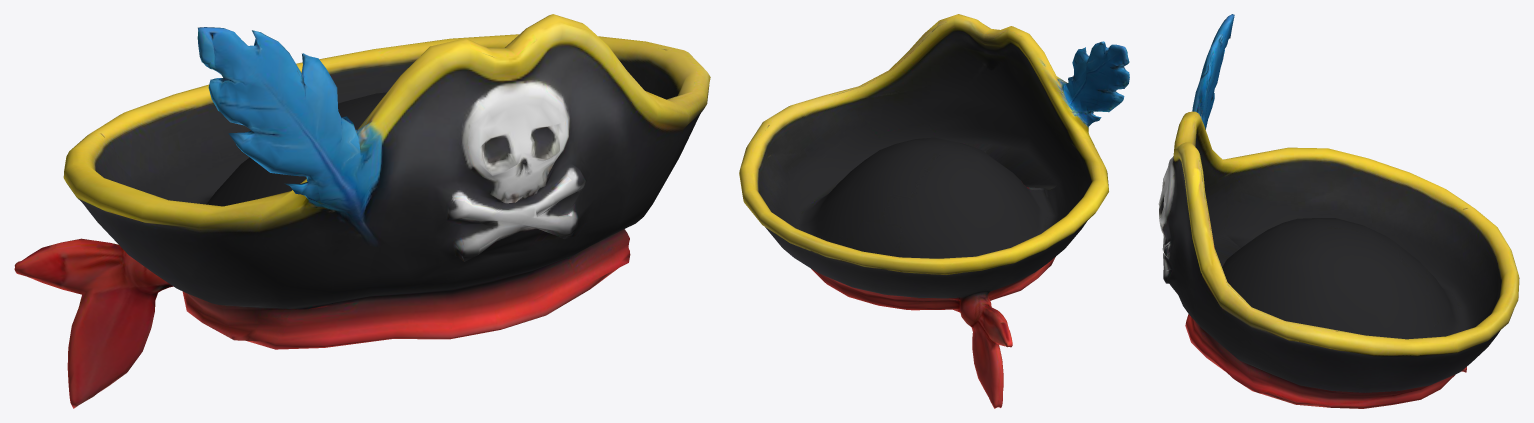
Rendered from Pirate.glb.
The picture shows the model from 3 angles, left to right: view 1: azimuth 30°, elevation 25°; view 2: azimuth 150°, elevation 25°; view 3: azimuth 270°, elevation 25°; orthographic projection. The views are drawn at different scales.
Parts seen in each view (by area): view 1: Pirate; view 2: Pirate; view 3: Pirate.
Part boxes in pixels (box(x1,y1,x2,y2)): Pirate: box(14, 14, 710, 408); Pirate: box(739, 14, 1129, 408); Pirate: box(1158, 14, 1519, 408).
Bounding box in the file's own units: 0.6918 × 0.579 × 0.5527.
1 material, 1 textured.
